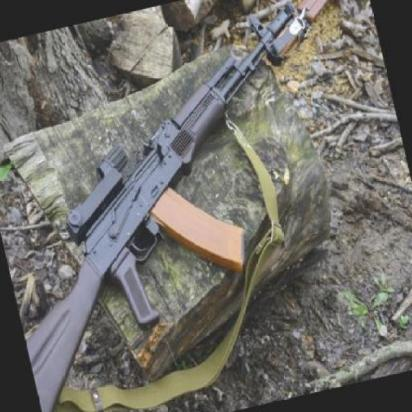Gun: (0, 0, 296, 389)
